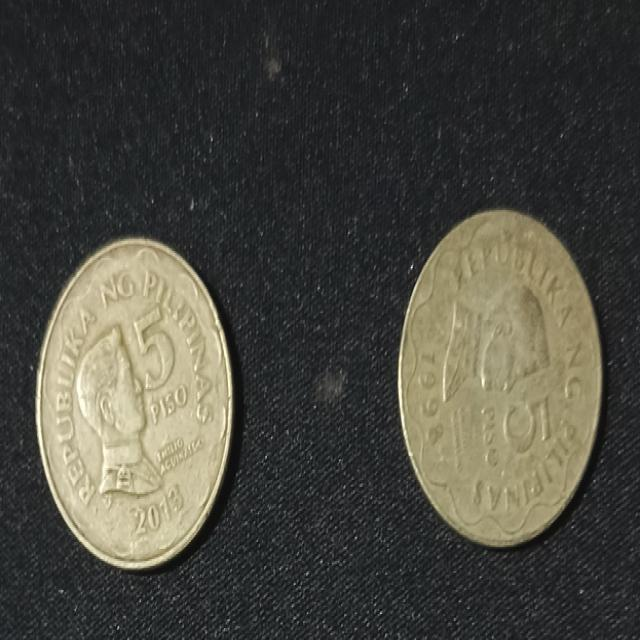5_peso: (399, 210, 603, 545), (37, 239, 232, 566)
